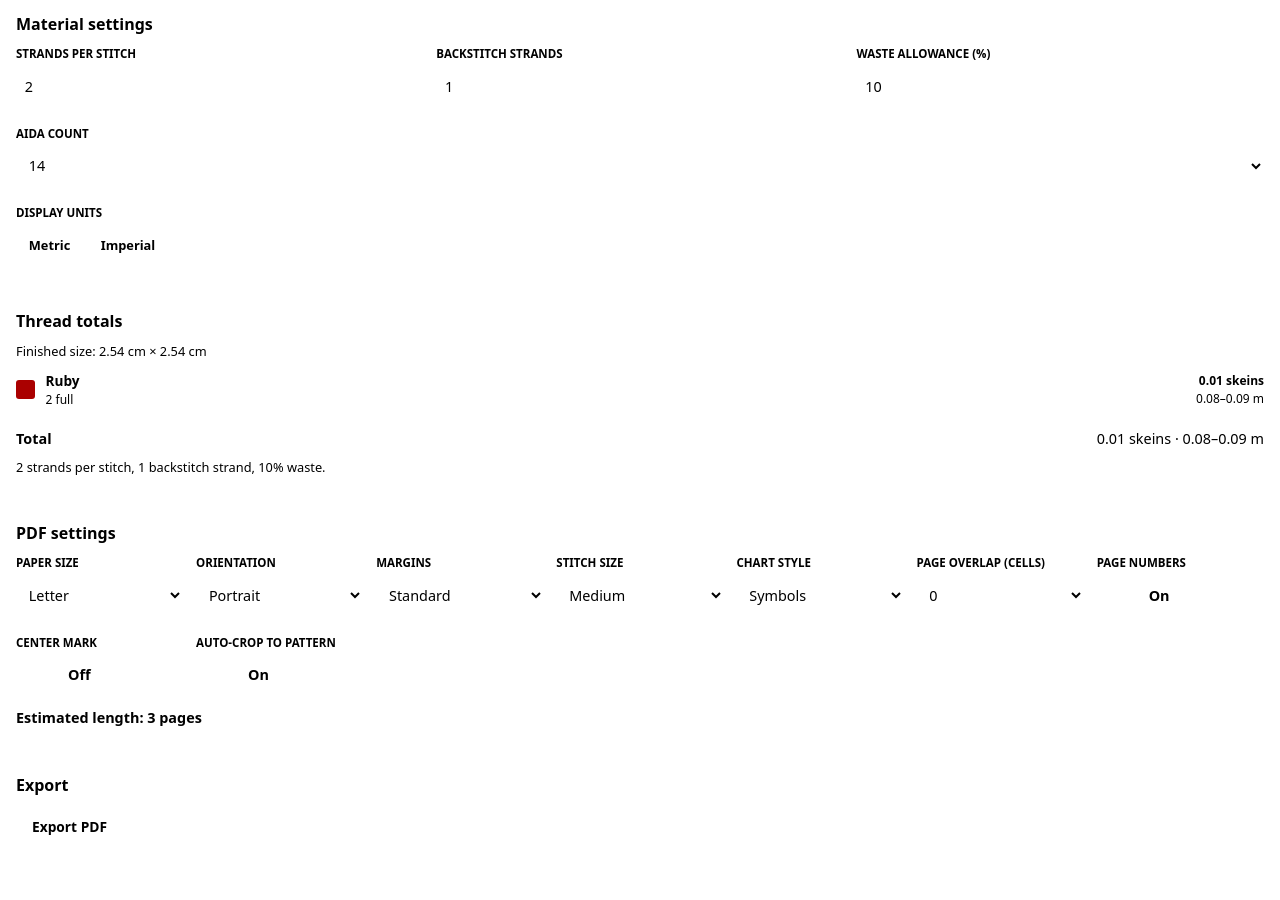
Test: ExportPanel › saves a dirty valid material draft before exporting
Replace the text in the number field labelled "Backstitch strands" with "2" at (640, 86), box [436,67,844,106]
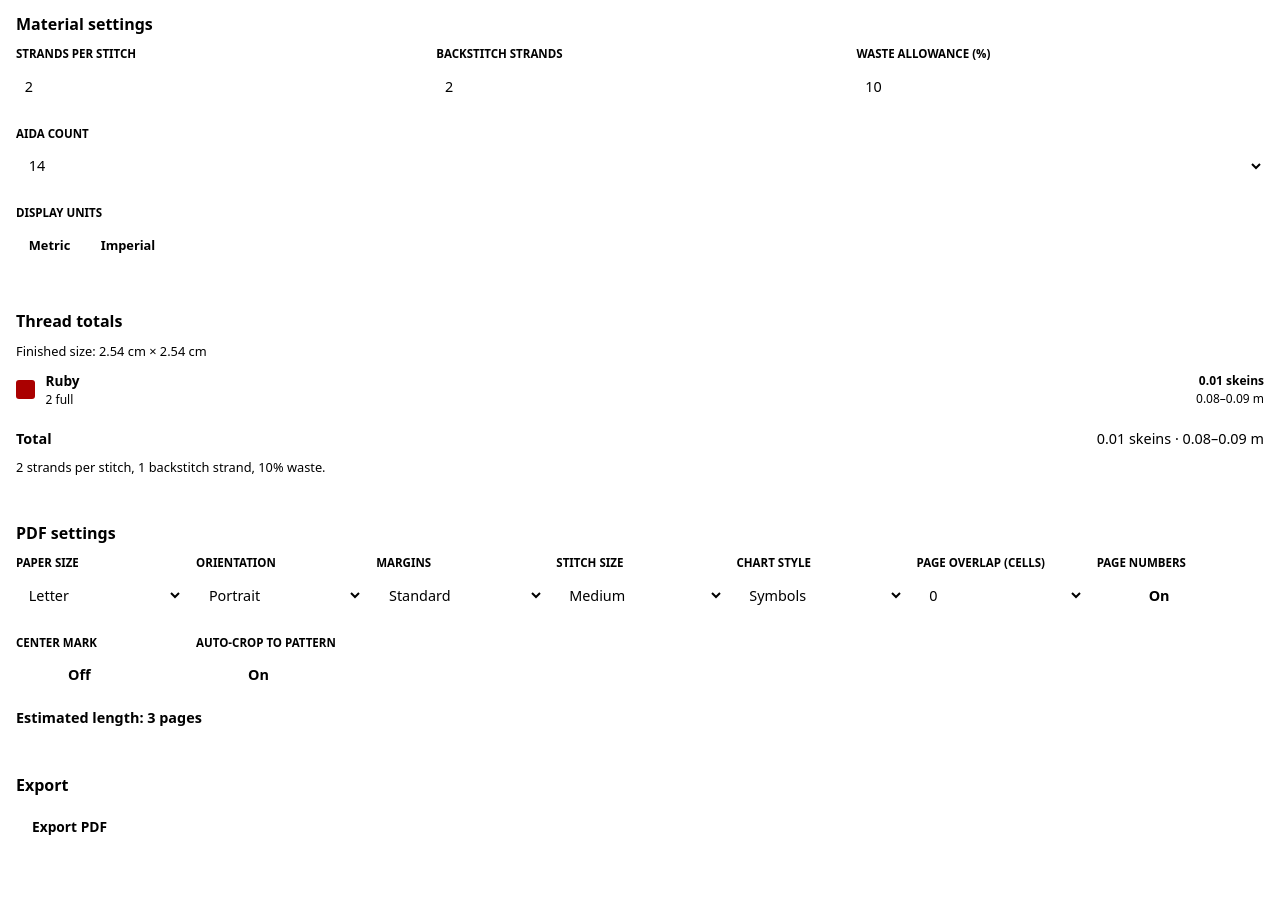
Click the button "Export PDF".
click(70, 827)  # box [16,806,123,849]
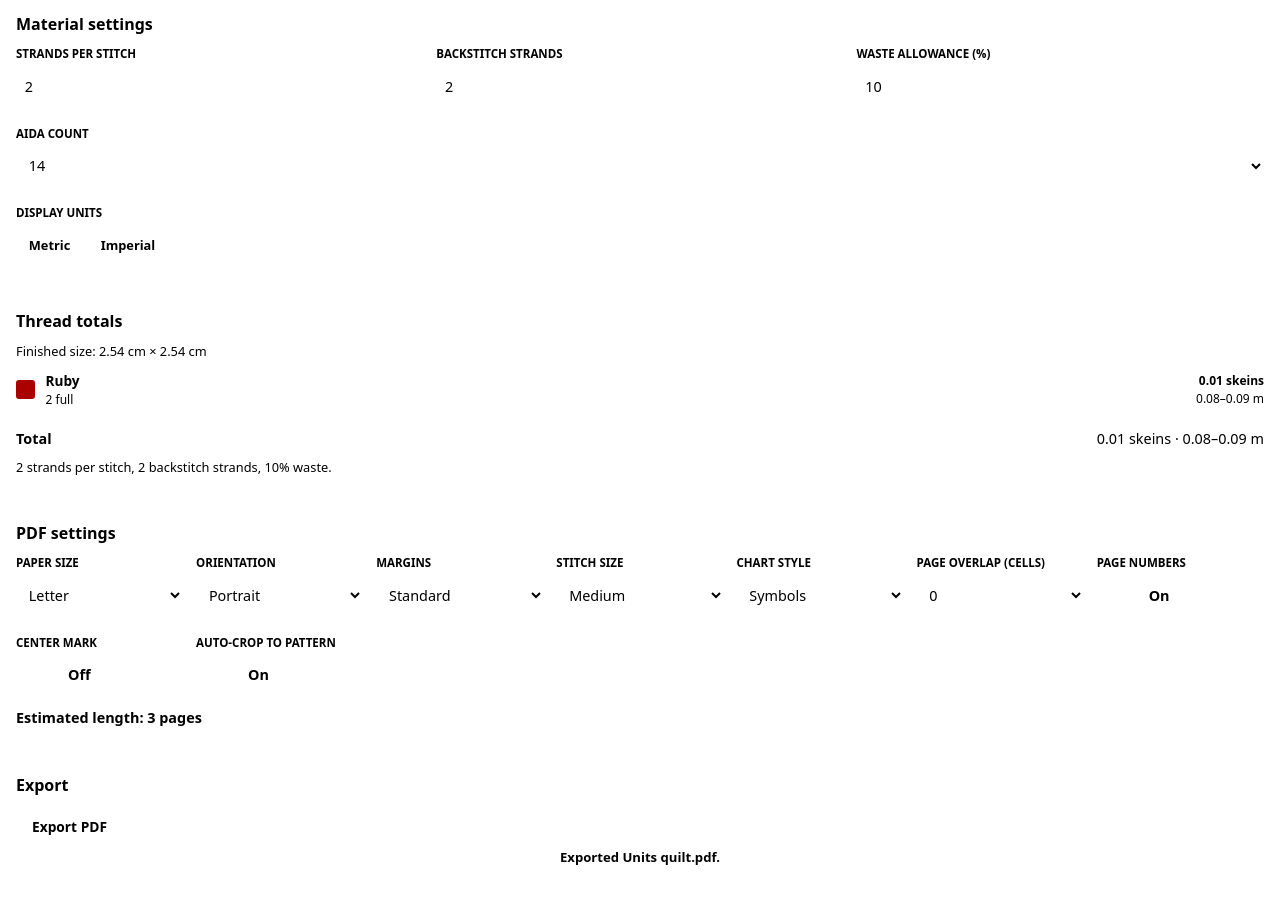
Check: the text "Exported Units quilt.pdf." is shown, box [560,848,720,867]
